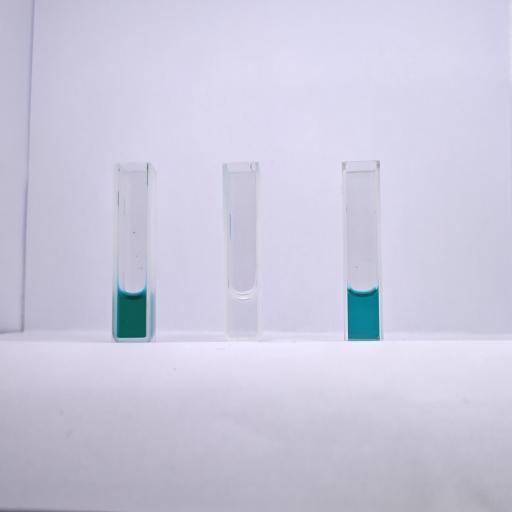cuvette: (110, 160, 154, 344), (340, 159, 384, 343), (221, 160, 263, 342)
liquid: (348, 289, 379, 338), (227, 290, 256, 339), (117, 290, 146, 338)
